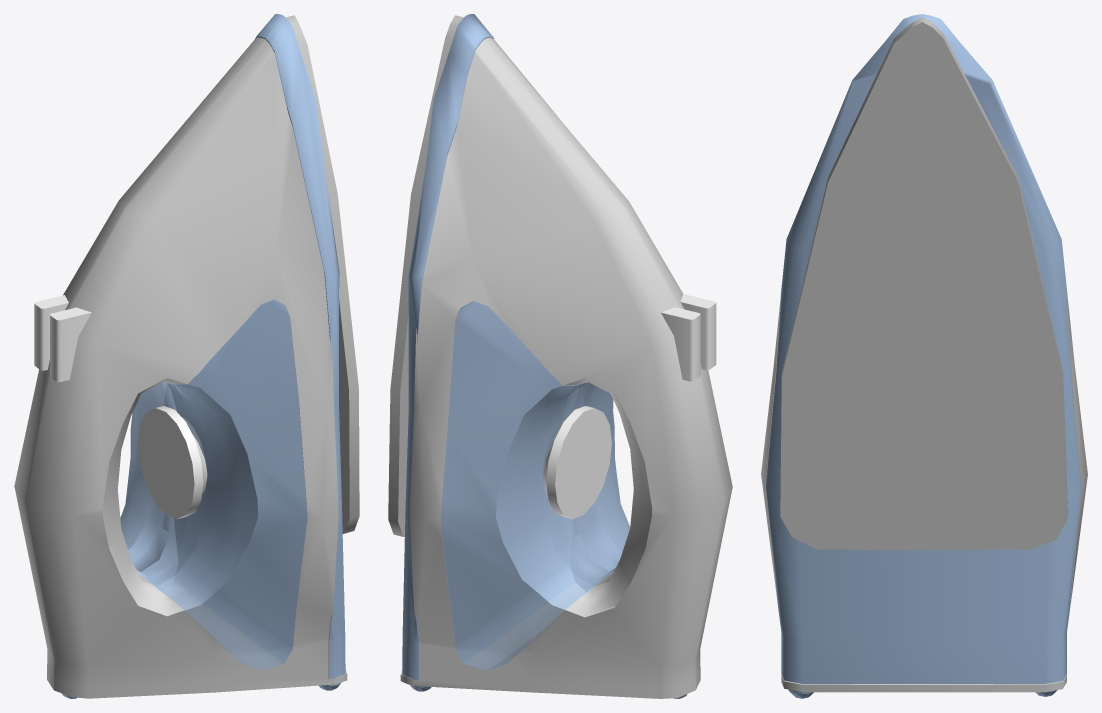
Rendered from fer.obj.
3 views of the same model, side by side, from view 1: azimuth 30°, elevation 25°; view 2: azimuth 150°, elevation 25°; view 3: azimuth 270°, elevation 25° (orthographic). The views are drawn at different scales.
Visible parts, largest first — view 1: fer_a_repasser, reservoir, bas, fer, bouton_central, bouton_1, bouton_2; view 2: fer_a_repasser, reservoir, bas, fer, bouton_central, bouton_2, bouton_1; view 3: fer, bas, fer_a_repasser.
Boxes of the visible parts, left/top/right/bottom form: fer_a_repasser: left=14, top=37, right=347, bottom=698; reservoir: left=120, top=299, right=307, bottom=669; bas: left=255, top=14, right=345, bottom=678; fer: left=286, top=15, right=359, bottom=533; bouton_central: left=137, top=406, right=207, bottom=518; bouton_1: left=50, top=307, right=91, bottom=382; bouton_2: left=34, top=295, right=68, bottom=370; fer_a_repasser: left=400, top=38, right=732, bottom=698; reservoir: left=440, top=301, right=630, bottom=670; bas: left=402, top=14, right=493, bottom=679; fer: left=388, top=15, right=463, bottom=536; bouton_central: left=542, top=406, right=611, bottom=518; bouton_2: left=661, top=307, right=700, bottom=381; bouton_1: left=680, top=294, right=716, bottom=370; fer: left=780, top=17, right=1067, bottom=549; bas: left=765, top=14, right=1081, bottom=683; fer_a_repasser: left=761, top=288, right=1087, bottom=692.
Bounding box in the file's own units: 13.7 × 30.61 × 13.17.
